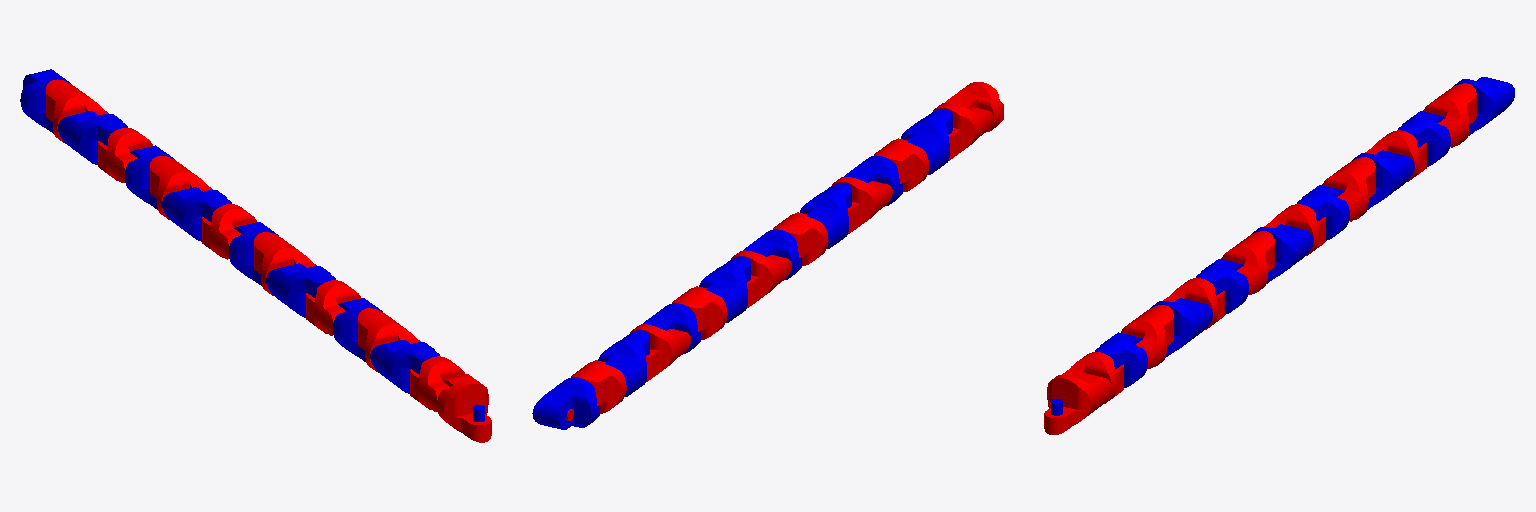
--- Facts derived from the render (not from the file) ---
Views: 3 orthographic renders of the robot side by side, from view 1: azimuth 30°, elevation 25°; view 2: azimuth 150°, elevation 25°; view 3: azimuth 330°, elevation 25°.
Model REU_snake with 52 links and 51 joints (16 revolute, 35 fixed), rooted at kdl_dummy_root, posed every joint at zero.
Links seen in each view (by area): view 1: reu_module_body_16, reu_module_body_6, reu_module_body_2, reu_module_body_10, reu_module_body_14, reu_module_body_13, reu_module_body_11, reu_module_body_15, reu_module_body_3, reu_module_body_7, reu_module_body_9, reu_module_body_5 (+5 smaller); view 2: reu_module_body_0, reu_module_body_14, reu_module_body_10, reu_module_body_6, reu_module_body_2, reu_module_body_3, reu_module_body_7, reu_module_body_11, reu_module_body_15, reu_module_body_13, reu_module_body_1, reu_module_body_9 (+5 smaller); view 3: reu_module_body_16, reu_module_body_5, reu_module_body_1, reu_module_body_9, reu_module_body_13, reu_module_body_12, reu_module_body_8, reu_module_body_4, reu_module_body_0, reu_module_body_6, reu_module_body_10, reu_module_body_14 (+5 smaller).
Boxes of the visible links, box(x1,y1,x2,y2) form: reu_module_body_16: box(437, 374, 491, 442); reu_module_body_6: box(162, 187, 231, 241); reu_module_body_2: box(58, 111, 127, 164); reu_module_body_10: box(266, 263, 335, 317); reu_module_body_14: box(370, 340, 439, 393); reu_module_body_13: box(358, 308, 420, 372); reu_module_body_11: box(306, 280, 360, 335); reu_module_body_15: box(410, 356, 465, 411); reu_module_body_3: box(98, 128, 152, 182); reu_module_body_7: box(202, 204, 256, 259); reu_module_body_9: box(254, 232, 316, 295); reu_module_body_5: box(150, 156, 212, 219); reu_module_body_0: box(532, 377, 599, 429); reu_module_body_14: box(901, 109, 952, 174); reu_module_body_10: box(800, 183, 851, 248); reu_module_body_6: box(699, 256, 750, 322); reu_module_body_2: box(598, 330, 649, 396); reu_module_body_3: box(630, 324, 690, 381); reu_module_body_7: box(731, 250, 791, 307); reu_module_body_11: box(832, 177, 892, 233); reu_module_body_15: box(933, 103, 993, 160); reu_module_body_13: box(874, 138, 928, 191); reu_module_body_1: box(571, 360, 626, 413); reu_module_body_9: box(773, 212, 828, 265); reu_module_body_16: box(1044, 372, 1111, 434); reu_module_body_5: box(1322, 157, 1375, 221); reu_module_body_1: box(1423, 83, 1476, 147); reu_module_body_9: box(1221, 231, 1274, 294); reu_module_body_13: box(1121, 305, 1173, 368); reu_module_body_12: box(1150, 298, 1212, 356); reu_module_body_8: box(1251, 224, 1313, 283); reu_module_body_4: box(1352, 150, 1414, 209); reu_module_body_0: box(1453, 77, 1514, 135); reu_module_body_6: box(1297, 185, 1349, 240); reu_module_body_10: box(1196, 259, 1248, 314); reu_module_body_14: box(1095, 332, 1147, 387).
Size in the robot's own frame: 0.0513 by 0.8891 by 0.0513 metres.
Meshes: 1 distinct files referenced, 17 mesh visuals loaded (1 binary STL).

robot.urdf — REU_snake:
<?xml version="1.0" ?>
<robot name="REU_snake" xmlns:xacro="http://ros.org/wiki/xacro">
  <!-- Written by Christian Luu ([email redacted]) 2021 -->
  <!-- URDF uses a cylindrical collision model -->
  <!-- Inertial Matrix of ReU module is from MeshLab -->
  <link name="kdl_dummy_root"/>
  <joint name="kdl_dummy_root_to_dummy_head" type="fixed">
    <parent link="kdl_dummy_root"/>
    <child link="reu_module_in_0"/>
    <origin rpy="0 -1.57079632679 0" xyz="0 0 0.026"/>
  </joint>
  <link name="reu_module_in_0">
    <visual>
      <origin rpy="0 0 0" xyz="0 0 0"/>
      <geometry>
        <cylinder length="0.02" radius="0.006"/>
      </geometry>
      <material name="red">
        <color rgba="1 0 0 1"/>
      </material>
    </visual>
    <inertial>
      <origin rpy="0 0 0" xyz="0 0 0"/>
      <mass value="1"/>
      <inertia ixx="1" ixy="0" ixz="0" iyy="1" iyz="0" izz="1"/>
    </inertial>
  </link>
  <link name="reu_module_body_0">
    <visual>
      <origin rpy="0 0 0" xyz="-0.02539 -0.02539 -0.9"/>
      <geometry>
        <mesh filename="package://model/ReU/meshes/ReU.STL" scale="0.0254 0.0254 0.0254"/>
      </geometry>
      <material name="blue">
        <color rgba="0 0 1 1"/>
      </material>
    </visual>
    <collision>
      <origin rpy="0 0 0" xyz="0 0 0"/>
      <geometry>
        <cylinder length="0.0208325" radius="0.02539"/>
      </geometry>
    </collision>
    <inertial>
      <origin rpy="0 0 0" xyz="0 0 0"/>
      <mass value="0.103"/>
      <inertia ixx="2.948" ixy="0.0452" ixz="0.4092" iyy="2.9305" iyz="-0.405" izz="1.819"/>
    </inertial>
  </link>
  <link name="reu_module_out_0">
    <visual>
      <origin rpy="0 0 0" xyz="0 0 0"/>
      <geometry>
        <cylinder length="0.015" radius="0.006"/>
      </geometry>
      <material name="blue">
        <color rgba="0 0 1 1"/>
      </material>
    </visual>
    <inertial>
      <origin rpy="0 0 0" xyz="0 0 0"/>
      <mass value="0"/>
      <inertia ixx="1" ixy="0" ixz="0" iyy="1" iyz="0" izz="1"/>
    </inertial>
  </link>
  <joint name="reu_joint_in2body_0" type="fixed">
    <parent link="reu_module_in_0"/>
    <child link="reu_module_body_0"/>
    <origin rpy="1.57076327 0 0" xyz="0 -0.0066 0"/>
  </joint>
  <joint name="reu_joint_body2out_0" type="fixed">
    <parent link="reu_module_body_0"/>
    <child link="reu_module_out_0"/>
    <origin rpy="0 1.57076327 0" xyz="0 0 0.044"/>
  </joint>
  <joint name="reu_joint_out2in_0" type="revolute">
    <parent link="reu_module_out_0"/>
    <child link="reu_module_in_1"/>
    <axis xyz="0 0 1"/>
    <origin rpy="0 3.14152654 -1.57076327" xyz="0 0 0"/>
    <dynamics damping="0.1" friction="0.2"/>
    <limit effort="7.0" lower="-1.57076327" upper="1.57076327" velocity="2.2"/>
  </joint>
  <transmission name="module_2_module_trans_0">
    <type>transmission_interface/SimpleTranmission</type>
    <actuator name="module_actuator_0">
      <mechanicalReduction>1</mechanicalReduction>
    </actuator>
    <joint name="reu_joint_out2in_0">
      <hardwareInterface>PositionJointInterface</hardwareInterface>
    </joint>
  </transmission>
  <link name="reu_module_in_1">
    <visual>
      <origin rpy="0 0 0" xyz="0 0 0"/>
      <geometry>
        <cylinder length="0.02" radius="0.006"/>
      </geometry>
      <material name="red">
        <color rgba="1 0 0 1"/>
      </material>
    </visual>
    <inertial>
      <origin rpy="0 0 0" xyz="0 0 0"/>
      <mass value="1"/>
      <inertia ixx="1" ixy="0" ixz="0" iyy="1" iyz="0" izz="1"/>
    </inertial>
  </link>
  <link name="reu_module_body_1">
    <visual>
      <origin rpy="0 0 0" xyz="-0.02539 -0.02539 -0.9"/>
      <geometry>
        <mesh filename="package://model/ReU/meshes/ReU.STL" scale="0.0254 0.0254 0.0254"/>
      </geometry>
      <material name="red">
        <color rgba="1 0 0 1"/>
      </material>
    </visual>
    <collision>
      <origin rpy="0 0 0" xyz="0 0 0"/>
      <geometry>
        <cylinder length="0.0208325" radius="0.02539"/>
      </geometry>
    </collision>
    <inertial>
      <origin rpy="0 0 0" xyz="0 0 0"/>
      <mass value="0.103"/>
      <inertia ixx="2.948" ixy="0.0452" ixz="0.4092" iyy="2.9305" iyz="-0.405" izz="1.819"/>
    </inertial>
  </link>
  <link name="reu_module_out_1">
    <visual>
      <origin rpy="0 0 0" xyz="0 0 0"/>
      <geometry>
        <cylinder length="0.015" radius="0.006"/>
      </geometry>
      <material name="blue">
        <color rgba="0 0 1 1"/>
      </material>
    </visual>
    <inertial>
      <origin rpy="0 0 0" xyz="0 0 0"/>
      <mass value="0"/>
      <inertia ixx="1" ixy="0" ixz="0" iyy="1" iyz="0" izz="1"/>
    </inertial>
  </link>
  <joint name="reu_joint_in2body_1" type="fixed">
    <parent link="reu_module_in_1"/>
    <child link="reu_module_body_1"/>
    <origin rpy="1.57076327 0 0" xyz="0 -0.0066 0"/>
  </joint>
  <joint name="reu_joint_body2out_1" type="fixed">
    <parent link="reu_module_body_1"/>
    <child link="reu_module_out_1"/>
    <origin rpy="0 1.57076327 0" xyz="0 0 0.044"/>
  </joint>
  <joint name="reu_joint_out2in_1" type="revolute">
    <parent link="reu_module_out_1"/>
    <child link="reu_module_in_2"/>
    <axis xyz="0 0 1"/>
    <origin rpy="0 3.14152654 -1.57076327" xyz="0 0 0"/>
    <dynamics damping="0.1" friction="0.2"/>
    <limit effort="7.0" lower="-1.57076327" upper="1.57076327" velocity="2.2"/>
  </joint>
  <transmission name="module_2_module_trans_1">
    <type>transmission_interface/SimpleTranmission</type>
    <actuator name="module_actuator_1">
      <mechanicalReduction>1</mechanicalReduction>
    </actuator>
    <joint name="reu_joint_out2in_1">
      <hardwareInterface>PositionJointInterface</hardwareInterface>
    </joint>
  </transmission>
  <link name="reu_module_in_2">
    <visual>
      <origin rpy="0 0 0" xyz="0 0 0"/>
      <geometry>
        <cylinder length="0.02" radius="0.006"/>
      </geometry>
      <material name="red">
        <color rgba="1 0 0 1"/>
      </material>
    </visual>
    <inertial>
      <origin rpy="0 0 0" xyz="0 0 0"/>
      <mass value="1"/>
      <inertia ixx="1" ixy="0" ixz="0" iyy="1" iyz="0" izz="1"/>
    </inertial>
  </link>
  <link name="reu_module_body_2">
    <visual>
      <origin rpy="0 0 0" xyz="-0.02539 -0.02539 -0.9"/>
      <geometry>
        <mesh filename="package://model/ReU/meshes/ReU.STL" scale="0.0254 0.0254 0.0254"/>
      </geometry>
      <material name="blue">
        <color rgba="0 0 1 1"/>
      </material>
    </visual>
    <collision>
      <origin rpy="0 0 0" xyz="0 0 0"/>
      <geometry>
        <cylinder length="0.0208325" radius="0.02539"/>
      </geometry>
    </collision>
    <inertial>
      <origin rpy="0 0 0" xyz="0 0 0"/>
      <mass value="0.103"/>
      <inertia ixx="2.948" ixy="0.0452" ixz="0.4092" iyy="2.9305" iyz="-0.405" izz="1.819"/>
    </inertial>
  </link>
  <link name="reu_module_out_2">
    <visual>
      <origin rpy="0 0 0" xyz="0 0 0"/>
      <geometry>
        <cylinder length="0.015" radius="0.006"/>
      </geometry>
      <material name="blue">
        <color rgba="0 0 1 1"/>
      </material>
    </visual>
    <inertial>
      <origin rpy="0 0 0" xyz="0 0 0"/>
      <mass value="0"/>
      <inertia ixx="1" ixy="0" ixz="0" iyy="1" iyz="0" izz="1"/>
    </inertial>
  </link>
  <joint name="reu_joint_in2body_2" type="fixed">
    <parent link="reu_module_in_2"/>
    <child link="reu_module_body_2"/>
    <origin rpy="1.57076327 0 0" xyz="0 -0.0066 0"/>
  </joint>
  <joint name="reu_joint_body2out_2" type="fixed">
    <parent link="reu_module_body_2"/>
    <child link="reu_module_out_2"/>
    <origin rpy="0 1.57076327 0" xyz="0 0 0.044"/>
  </joint>
  <joint name="reu_joint_out2in_2" type="revolute">
    <parent link="reu_module_out_2"/>
    <child link="reu_module_in_3"/>
    <axis xyz="0 0 1"/>
    <origin rpy="0 3.14152654 -1.57076327" xyz="0 0 0"/>
    <dynamics damping="0.1" friction="0.2"/>
    <limit effort="7.0" lower="-1.57076327" upper="1.57076327" velocity="2.2"/>
  </joint>
  <transmission name="module_2_module_trans_2">
    <type>transmission_interface/SimpleTranmission</type>
    <actuator name="module_actuator_2">
      <mechanicalReduction>1</mechanicalReduction>
    </actuator>
    <joint name="reu_joint_out2in_2">
      <hardwareInterface>PositionJointInterface</hardwareInterface>
    </joint>
  </transmission>
  <link name="reu_module_in_3">
    <visual>
      <origin rpy="0 0 0" xyz="0 0 0"/>
      <geometry>
        <cylinder length="0.02" radius="0.006"/>
      </geometry>
      <material name="red">
        <color rgba="1 0 0 1"/>
      </material>
    </visual>
    <inertial>
      <origin rpy="0 0 0" xyz="0 0 0"/>
      <mass value="1"/>
      <inertia ixx="1" ixy="0" ixz="0" iyy="1" iyz="0" izz="1"/>
    </inertial>
  </link>
  <link name="reu_module_body_3">
    <visual>
      <origin rpy="0 0 0" xyz="-0.02539 -0.02539 -0.9"/>
      <geometry>
        <mesh filename="package://model/ReU/meshes/ReU.STL" scale="0.0254 0.0254 0.0254"/>
      </geometry>
      <material name="red">
        <color rgba="1 0 0 1"/>
      </material>
    </visual>
    <collision>
      <origin rpy="0 0 0" xyz="0 0 0"/>
      <geometry>
        <cylinder length="0.0208325" radius="0.02539"/>
      </geometry>
    </collision>
    <inertial>
      <origin rpy="0 0 0" xyz="0 0 0"/>
      <mass value="0.103"/>
      <inertia ixx="2.948" ixy="0.0452" ixz="0.4092" iyy="2.9305" iyz="-0.405" izz="1.819"/>
    </inertial>
  </link>
  <link name="reu_module_out_3">
    <visual>
      <origin rpy="0 0 0" xyz="0 0 0"/>
      <geometry>
        <cylinder length="0.015" radius="0.006"/>
      </geometry>
      <material name="blue">
        <color rgba="0 0 1 1"/>
      </material>
    </visual>
    <inertial>
      <origin rpy="0 0 0" xyz="0 0 0"/>
      <mass value="0"/>
      <inertia ixx="1" ixy="0" ixz="0" iyy="1" iyz="0" izz="1"/>
    </inertial>
  </link>
  <joint name="reu_joint_in2body_3" type="fixed">
    <parent link="reu_module_in_3"/>
    <child link="reu_module_body_3"/>
    <origin rpy="1.57076327 0 0" xyz="0 -0.0066 0"/>
  </joint>
  <joint name="reu_joint_body2out_3" type="fixed">
    <parent link="reu_module_body_3"/>
    <child link="reu_module_out_3"/>
    <origin rpy="0 1.57076327 0" xyz="0 0 0.044"/>
  </joint>
  <joint name="reu_joint_out2in_3" type="revolute">
    <parent link="reu_module_out_3"/>
    <child link="reu_module_in_4"/>
    <axis xyz="0 0 1"/>
    <origin rpy="0 3.14152654 -1.57076327" xyz="0 0 0"/>
    <dynamics damping="0.1" friction="0.2"/>
    <limit effort="7.0" lower="-1.57076327" upper="1.57076327" velocity="2.2"/>
  </joint>
  <transmission name="module_2_module_trans_3">
    <type>transmission_interface/SimpleTranmission</type>
    <actuator name="module_actuator_3">
      <mechanicalReduction>1</mechanicalReduction>
    </actuator>
    <joint name="reu_joint_out2in_3">
      <hardwareInterface>PositionJointInterface</hardwareInterface>
    </joint>
  </transmission>
  <link name="reu_module_in_4">
    <visual>
      <origin rpy="0 0 0" xyz="0 0 0"/>
      <geometry>
        <cylinder length="0.02" radius="0.006"/>
      </geometry>
      <material name="red">
        <color rgba="1 0 0 1"/>
      </material>
    </visual>
    <inertial>
      <origin rpy="0 0 0" xyz="0 0 0"/>
      <mass value="1"/>
      <inertia ixx="1" ixy="0" ixz="0" iyy="1" iyz="0" izz="1"/>
    </inertial>
  </link>
  <link name="reu_module_body_4">
    <visual>
      <origin rpy="0 0 0" xyz="-0.02539 -0.02539 -0.9"/>
      <geometry>
        <mesh filename="package://model/ReU/meshes/ReU.STL" scale="0.0254 0.0254 0.0254"/>
      </geometry>
      <material name="blue">
        <color rgba="0 0 1 1"/>
      </material>
    </visual>
    <collision>
      <origin rpy="0 0 0" xyz="0 0 0"/>
      <geometry>
        <cylinder length="0.0208325" radius="0.02539"/>
      </geometry>
    </collision>
    <inertial>
      <origin rpy="0 0 0" xyz="0 0 0"/>
      <mass value="0.103"/>
      <inertia ixx="2.948" ixy="0.0452" ixz="0.4092" iyy="2.9305" iyz="-0.405" izz="1.819"/>
    </inertial>
  </link>
  <link name="reu_module_out_4">
    <visual>
      <origin rpy="0 0 0" xyz="0 0 0"/>
      <geometry>
        <cylinder length="0.015" radius="0.006"/>
      </geometry>
      <material name="blue">
        <color rgba="0 0 1 1"/>
      </material>
    </visual>
    <inertial>
      <origin rpy="0 0 0" xyz="0 0 0"/>
      <mass value="0"/>
      <inertia ixx="1" ixy="0" ixz="0" iyy="1" iyz="0" izz="1"/>
    </inertial>
  </link>
  <joint name="reu_joint_in2body_4" type="fixed">
    <parent link="reu_module_in_4"/>
    <child link="reu_module_body_4"/>
    <origin rpy="1.57076327 0 0" xyz="0 -0.0066 0"/>
  </joint>
  <joint name="reu_joint_body2out_4" type="fixed">
    <parent link="reu_module_body_4"/>
    <child link="reu_module_out_4"/>
    <origin rpy="0 1.57076327 0" xyz="0 0 0.044"/>
  </joint>
  <joint name="reu_joint_out2in_4" type="revolute">
    <parent link="reu_module_out_4"/>
    <child link="reu_module_in_5"/>
    <axis xyz="0 0 1"/>
    <origin rpy="0 3.14152654 -1.57076327" xyz="0 0 0"/>
    <dynamics damping="0.1" friction="0.2"/>
    <limit effort="7.0" lower="-1.57076327" upper="1.57076327" velocity="2.2"/>
  </joint>
  <transmission name="module_2_module_trans_4">
    <type>transmission_interface/SimpleTranmission</type>
    <actuator name="module_actuator_4">
      <mechanicalReduction>1</mechanicalReduction>
    </actuator>
    <joint name="reu_joint_out2in_4">
      <hardwareInterface>PositionJointInterface</hardwareInterface>
    </joint>
  </transmission>
  <link name="reu_module_in_5">
    <visual>
      <origin rpy="0 0 0" xyz="0 0 0"/>
      <geometry>
        <cylinder length="0.02" radius="0.006"/>
      </geometry>
      <material name="red">
        <color rgba="1 0 0 1"/>
      </material>
    </visual>
    <inertial>
      <origin rpy="0 0 0" xyz="0 0 0"/>
      <mass value="1"/>
      <inertia ixx="1" ixy="0" ixz="0" iyy="1" iyz="0" izz="1"/>
    </inertial>
  </link>
  <link name="reu_module_body_5">
    <visual>
      <origin rpy="0 0 0" xyz="-0.02539 -0.02539 -0.9"/>
      <geometry>
        <mesh filename="package://model/ReU/meshes/ReU.STL" scale="0.0254 0.0254 0.0254"/>
      </geometry>
      <material name="red">
        <color rgba="1 0 0 1"/>
      </material>
    </visual>
    <collision>
      <origin rpy="0 0 0" xyz="0 0 0"/>
      <geometry>
        <cylinder length="0.0208325" radius="0.02539"/>
      </geometry>
    </collision>
    <inertial>
      <origin rpy="0 0 0" xyz="0 0 0"/>
      <mass value="0.103"/>
      <inertia ixx="2.948" ixy="0.0452" ixz="0.4092" iyy="2.9305" iyz="-0.405" izz="1.819"/>
    </inertial>
  </link>
  <link name="reu_module_out_5">
    <visual>
      <origin rpy="0 0 0" xyz="0 0 0"/>
      <geometry>
        <cylinder length="0.015" radius="0.006"/>
      </geometry>
      <material name="blue">
        <color rgba="0 0 1 1"/>
      </material>
    </visual>
    <inertial>
      <origin rpy="0 0 0" xyz="0 0 0"/>
      <mass value="0"/>
      <inertia ixx="1" ixy="0" ixz="0" iyy="1" iyz="0" izz="1"/>
    </inertial>
  </link>
  <joint name="reu_joint_in2body_5" type="fixed">
    <parent link="reu_module_in_5"/>
    <child link="reu_module_body_5"/>
    <origin rpy="1.57076327 0 0" xyz="0 -0.0066 0"/>
  </joint>
  <joint name="reu_joint_body2out_5" type="fixed">
    <parent link="reu_module_body_5"/>
    <child link="reu_module_out_5"/>
    <origin rpy="0 1.57076327 0" xyz="0 0 0.044"/>
  </joint>
  <joint name="reu_joint_out2in_5" type="revolute">
    <parent link="reu_module_out_5"/>
    <child link="reu_module_in_6"/>
    <axis xyz="0 0 1"/>
    <origin rpy="0 3.14152654 -1.57076327" xyz="0 0 0"/>
    <dynamics damping="0.1" friction="0.2"/>
    <limit effort="7.0" lower="-1.57076327" upper="1.57076327" velocity="2.2"/>
  </joint>
  <transmission name="module_2_module_trans_5">
    <type>transmission_interface/SimpleTranmission</type>
    <actuator name="module_actuator_5">
      <mechanicalReduction>1</mechanicalReduction>
    </actuator>
    <joint name="reu_joint_out2in_5">
      <hardwareInterface>PositionJointInterface</hardwareInterface>
    </joint>
  </transmission>
  <link name="reu_module_in_6">
    <visual>
      <origin rpy="0 0 0" xyz="0 0 0"/>
      <geometry>
        <cylinder length="0.02" radius="0.006"/>
      </geometry>
      <material name="red">
        <color rgba="1 0 0 1"/>
      </material>
    </visual>
    <inertial>
      <origin rpy="0 0 0" xyz="0 0 0"/>
      <mass value="1"/>
      <inertia ixx="1" ixy="0" ixz="0" iyy="1" iyz="0" izz="1"/>
    </inertial>
  </link>
  <link name="reu_module_body_6">
    <visual>
      <origin rpy="0 0 0" xyz="-0.02539 -0.02539 -0.9"/>
      <geometry>
        <mesh filename="package://model/ReU/meshes/ReU.STL" scale="0.0254 0.0254 0.0254"/>
      </geometry>
      <material name="blue">
        <color rgba="0 0 1 1"/>
      </material>
    </visual>
    <collision>
      <origin rpy="0 0 0" xyz="0 0 0"/>
      <geometry>
        <cylinder length="0.0208325" radius="0.02539"/>
      </geometry>
    </collision>
    <inertial>
      <origin rpy="0 0 0" xyz="0 0 0"/>
      <mass value="0.103"/>
      <inertia ixx="2.948" ixy="0.0452" ixz="0.4092" iyy="2.9305" iyz="-0.405" izz="1.819"/>
    </inertial>
  </link>
  <link name="reu_module_out_6">
    <visual>
      <origin rpy="0 0 0" xyz="0 0 0"/>
      <geometry>
        <cylinder length="0.015" radius="0.006"/>
      </geometry>
      <material name="blue">
        <color rgba="0 0 1 1"/>
      </material>
    </visual>
    <inertial>
      <origin rpy="0 0 0" xyz="0 0 0"/>
      <mass value="0"/>
      <inertia ixx="1" ixy="0" ixz="0" iyy="1" iyz="0" izz="1"/>
    </inertial>
  </link>
  <joint name="reu_joint_in2body_6" type="fixed">
    <parent link="reu_module_in_6"/>
    <child link="reu_module_body_6"/>
    <origin rpy="1.57076327 0 0" xyz="0 -0.0066 0"/>
  </joint>
  <joint name="reu_joint_body2out_6" type="fixed">
    <parent link="reu_module_body_6"/>
    <child link="reu_module_out_6"/>
    <origin rpy="0 1.57076327 0" xyz="0 0 0.044"/>
  </joint>
  <joint name="reu_joint_out2in_6" type="revolute">
    <parent link="reu_module_out_6"/>
    <child link="reu_module_in_7"/>
    <axis xyz="0 0 1"/>
    <origin rpy="0 3.14152654 -1.57076327" xyz="0 0 0"/>
    <dynamics damping="0.1" friction="0.2"/>
    <limit effort="7.0" lower="-1.57076327" upper="1.57076327" velocity="2.2"/>
  </joint>
  <transmission name="module_2_module_trans_6">
    <type>transmission_interface/SimpleTranmission</type>
    <actuator name="module_actuator_6">
      <mechanicalReduction>1</mechanicalReduction>
    </actuator>
    <joint name="reu_joint_out2in_6">
      <hardwareInterface>PositionJointInterface</hardwareInterface>
    </joint>
  </transmission>
  <link name="reu_module_in_7">
    <visual>
      <origin rpy="0 0 0" xyz="0 0 0"/>
      <geometry>
        <cylinder length="0.02" radius="0.006"/>
      </geometry>
      <material name="red">
        <color rgba="1 0 0 1"/>
      </material>
    </visual>
    <inertial>
      <origin rpy="0 0 0" xyz="0 0 0"/>
      <mass value="1"/>
      <inertia ixx="1" ixy="0" ixz="0" iyy="1" iyz="0" izz="1"/>
    </inertial>
  </link>
  <link name="reu_module_body_7">
    <visual>
      <origin rpy="0 0 0" xyz="-0.02539 -0.02539 -0.9"/>
      <geometry>
        <mesh filename="package://model/ReU/meshes/ReU.STL" scale="0.0254 0.0254 0.0254"/>
      </geometry>
      <material name="red">
        <color rgba="1 0 0 1"/>
      </material>
    </visual>
    <collision>
      <origin rpy="0 0 0" xyz="0 0 0"/>
      <geometry>
        <cylinder length="0.0208325" radius="0.02539"/>
      </geometry>
    </collision>
    <inertial>
      <origin rpy="0 0 0" xyz="0 0 0"/>
      <mass value="0.103"/>
      <inertia ixx="2.948" ixy="0.0452" ixz="0.4092" iyy="2.9305" iyz="-0.405" izz="1.819"/>
    </inertial>
  </link>
  <link name="reu_module_out_7">
    <visual>
      <origin rpy="0 0 0" xyz="0 0 0"/>
      <geometry>
        <cylinder length="0.015" radius="0.006"/>
      </geometry>
      <material name="blue">
        <color rgba="0 0 1 1"/>
      </material>
    </visual>
    <inertial>
      <origin rpy="0 0 0" xyz="0 0 0"/>
      <mass value="0"/>
      <inertia ixx="1" ixy="0" ixz="0" iyy="1" iyz="0" izz="1"/>
    </inertial>
  </link>
  <joint name="reu_joint_in2body_7" type="fixed">
    <parent link="reu_module_in_7"/>
    <child link="reu_module_body_7"/>
    <origin rpy="1.57076327 0 0" xyz="0 -0.0066 0"/>
  </joint>
  <joint name="reu_joint_body2out_7" type="fixed">
    <parent link="reu_module_body_7"/>
    <child link="reu_module_out_7"/>
    <origin rpy="0 1.57076327 0" xyz="0 0 0.044"/>
  </joint>
  <joint name="reu_joint_out2in_7" type="revolute">
    <parent link="reu_module_out_7"/>
    <child link="reu_module_in_8"/>
    <axis xyz="0 0 1"/>
    <origin rpy="0 3.14152654 -1.57076327" xyz="0 0 0"/>
    <dynamics damping="0.1" friction="0.2"/>
    <limit effort="7.0" lower="-1.57076327" upper="1.57076327" velocity="2.2"/>
  </joint>
  <transmission name="module_2_module_trans_7">
    <type>transmission_interface/SimpleTranmission</type>
    <actuator name="module_actuator_7">
      <mechanicalReduction>1</mechanicalReduction>
    </actuator>
    <joint name="reu_joint_out2in_7">
      <hardwareInterface>PositionJointInterface</hardwareInterface>
    </joint>
  </transmission>
  <link name="reu_module_in_8">
    <visual>
      <origin rpy="0 0 0" xyz="0 0 0"/>
      <geometry>
        <cylinder length="0.02" radius="0.006"/>
      </geometry>
      <material name="red">
        <color rgba="1 0 0 1"/>
      </material>
    </visual>
    <inertial>
      <origin rpy="0 0 0" xyz="0 0 0"/>
      <mass value="1"/>
      <inertia ixx="1" ixy="0" ixz="0" iyy="1" iyz="0" izz="1"/>
    </inertial>
  </link>
  <link name="reu_module_body_8">
    <visual>
      <origin rpy="0 0 0" xyz="-0.02539 -0.02539 -0.9"/>
      <geometry>
        <mesh filename="package://model/ReU/meshes/ReU.STL" scale="0.0254 0.0254 0.0254"/>
      </geometry>
      <material name="blue">
        <color rgba="0 0 1 1"/>
      </material>
    </visual>
    <collision>
      <origin rpy="0 0 0" xyz="0 0 0"/>
      <geometry>
        <cylinder length="0.0208325" radius="0.02539"/>
      </geometry>
    </collision>
    <inertial>
      <origin rpy="0 0 0" xyz="0 0 0"/>
      <mass value="0.103"/>
      <inertia ixx="2.948" ixy="0.0452" ixz="0.4092" iyy="2.9305" iyz="-0.405" izz="1.819"/>
    </inertial>
  </link>
  <link name="reu_module_out_8">
    <visual>
      <origin rpy="0 0 0" xyz="0 0 0"/>
      <geometry>
        <cylinder length="0.015" radius="0.006"/>
      </geometry>
      <material name="blue">
        <color rgba="0 0 1 1"/>
      </material>
    </visual>
    <inertial>
      <origin rpy="0 0 0" xyz="0 0 0"/>
      <mass value="0"/>
      <inertia ixx="1" ixy="0" ixz="0" iyy="1" iyz="0" izz="1"/>
    </inertial>
  </link>
  <joint name="reu_joint_in2body_8" type="fixed">
    <parent link="reu_module_in_8"/>
    <child link="reu_module_body_8"/>
    <origin rpy="1.57076327 0 0" xyz="0 -0.0066 0"/>
  </joint>
  <joint name="reu_joint_body2out_8" type="fixed">
    <parent link="reu_module_body_8"/>
    <child link="reu_module_out_8"/>
    <origin rpy="0 1.57076327 0" xyz="0 0 0.044"/>
  </joint>
  <joint name="reu_joint_out2in_8" type="revolute">
    <parent link="reu_module_out_8"/>
    <child link="reu_module_in_9"/>
    <axis xyz="0 0 1"/>
    <origin rpy="0 3.14152654 -1.57076327" xyz="0 0 0"/>
    <dynamics damping="0.1" friction="0.2"/>
    <limit effort="7.0" lower="-1.57076327" upper="1.57076327" velocity="2.2"/>
  </joint>
  <transmission name="module_2_module_trans_8">
    <type>transmission_interface/SimpleTranmission</type>
    <actuator name="module_actuator_8">
      <mechanicalReduction>1</mechanicalReduction>
    </actuator>
    <joint name="reu_joint_out2in_8">
      <hardwareInterface>PositionJointInterface</hardwareInterface>
    </joint>
  </transmission>
  <link name="reu_module_in_9">
    <visual>
      <origin rpy="0 0 0" xyz="0 0 0"/>
      <geometry>
        <cylinder length="0.02" radius="0.006"/>
      </geometry>
      <material name="red">
        <color rgba="1 0 0 1"/>
      </material>
    </visual>
    <inertial>
      <origin rpy="0 0 0" xyz="0 0 0"/>
      <mass value="1"/>
      <inertia ixx="1" ixy="0" ixz="0" iyy="1" iyz="0" izz="1"/>
    </inertial>
  </link>
  <link name="reu_module_body_9">
    <visual>
      <origin rpy="0 0 0" xyz="-0.02539 -0.02539 -0.9"/>
      <geometry>
        <mesh filename="package://model/ReU/meshes/ReU.STL" scale="0.0254 0.0254 0.0254"/>
      </geometry>
      <material name="red">
        <color rgba="1 0 0 1"/>
      </material>
    </visual>
    <collision>
      <origin rpy="0 0 0" xyz="0 0 0"/>
      <geometry>
        <cylinder length="0.0208325" radius="0.02539"/>
      </geometry>
    </collision>
    <inertial>
      <origin rpy="0 0 0" xyz="0 0 0"/>
      <mass value="0.103"/>
      <inertia ixx="2.948" ixy="0.0452" ixz="0.4092" iyy="2.9305" iyz="-0.405" izz="1.819"/>
    </inertial>
  </link>
  <link name="reu_module_out_9">
    <visual>
      <origin rpy="0 0 0" xyz="0 0 0"/>
      <geometry>
        <cylinder length="0.015" radius="0.006"/>
      </geometry>
      <material name="blue">
        <color rgba="0 0 1 1"/>
      </material>
    </visual>
    <inertial>
      <origin rpy="0 0 0" xyz="0 0 0"/>
      <mass value="0"/>
      <inertia ixx="1" ixy="0" ixz="0" iyy="1" iyz="0" izz="1"/>
    </inertial>
  </link>
  <joint name="reu_joint_in2body_9" type="fixed">
    <parent link="reu_module_in_9"/>
    <child link="reu_module_body_9"/>
    <origin rpy="1.57076327 0 0" xyz="0 -0.0066 0"/>
  </joint>
  <joint name="reu_joint_body2out_9" type="fixed">
    <parent link="reu_module_body_9"/>
    <child link="reu_module_out_9"/>
    <origin rpy="0 1.57076327 0" xyz="0 0 0.044"/>
  </joint>
  <joint name="reu_joint_out2in_9" type="revolute">
    <parent link="reu_module_out_9"/>
    <child link="reu_module_in_10"/>
    <axis xyz="0 0 1"/>
    <origin rpy="0 3.14152654 -1.57076327" xyz="0 0 0"/>
    <dynamics damping="0.1" friction="0.2"/>
    <limit effort="7.0" lower="-1.57076327" upper="1.57076327" velocity="2.2"/>
  </joint>
  <transmission name="module_2_module_trans_9">
    <type>transmission_interface/SimpleTranmission</type>
    <actuator name="module_actuator_9">
      <mechanicalReduction>1</mechanicalReduction>
    </actuator>
    <joint name="reu_joint_out2in_9">
      <hardwareInterface>PositionJointInterface</hardwareInterface>
    </joint>
  </transmission>
  <link name="reu_module_in_10">
    <visual>
      <origin rpy="0 0 0" xyz="0 0 0"/>
      <geometry>
        <cylinder length="0.02" radius="0.006"/>
      </geometry>
      <material name="red">
        <color rgba="1 0 0 1"/>
      </material>
    </visual>
    <inertial>
      <origin rpy="0 0 0" xyz="0 0 0"/>
      <mass value="1"/>
      <inertia ixx="1" ixy="0" ixz="0" iyy="1" iyz="0" izz="1"/>
    </inertial>
  </link>
  <link name="reu_module_body_10">
    <visual>
      <origin rpy="0 0 0" xyz="-0.02539 -0.02539 -0.9"/>
      <geometry>
        <mesh filename="package://model/ReU/meshes/ReU.STL" scale="0.0254 0.0254 0.0254"/>
      </geometry>
      <material name="blue">
        <color rgba="0 0 1 1"/>
      </material>
    </visual>
    <collision>
      <origin rpy="0 0 0" xyz="0 0 0"/>
      <geometry>
        <cylinder length="0.0208325" radius="0.02539"/>
      </geometry>
    </collision>
    <inertial>
      <origin rpy="0 0 0" xyz="0 0 0"/>
      <mass value="0.103"/>
      <inertia ixx="2.948" ixy="0.0452" ixz="0.4092" iyy="2.9305" iyz="-0.405" izz="1.819"/>
    </inertial>
  </link>
  <link name="reu_module_out_10">
    <visual>
      <origin rpy="0 0 0" xyz="0 0 0"/>
      <geometry>
        <cylinder length="0.015" radius="0.006"/>
      </geometry>
      <material name="blue">
        <color rgba="0 0 1 1"/>
      </material>
    </visual>
    <inertial>
      <origin rpy="0 0 0" xyz="0 0 0"/>
      <mass value="0"/>
      <inertia ixx="1" ixy="0" ixz="0" iyy="1" iyz="0" izz="1"/>
    </inertial>
  </link>
  <joint name="reu_joint_in2body_10" type="fixed">
    <parent link="reu_module_in_10"/>
    <child link="reu_module_body_10"/>
    <origin rpy="1.57076327 0 0" xyz="0 -0.0066 0"/>
  </joint>
  <joint name="reu_joint_body2out_10" type="fixed">
    <parent link="reu_module_body_10"/>
    <child link="reu_module_out_10"/>
    <origin rpy="0 1.57076327 0" xyz="0 0 0.044"/>
  </joint>
  <joint name="reu_joint_out2in_10" type="revolute">
    <parent link="reu_module_out_10"/>
    <child link="reu_module_in_11"/>
    <axis xyz="0 0 1"/>
    <origin rpy="0 3.14152654 -1.57076327" xyz="0 0 0"/>
    <dynamics damping="0.1" friction="0.2"/>
    <limit effort="7.0" lower="-1.57076327" upper="1.57076327" velocity="2.2"/>
  </joint>
  <transmission name="module_2_module_trans_10">
    <type>transmission_interface/SimpleTranmission</type>
    <actuator name="module_actuator_10">
      <mechanicalReduction>1</mechanicalReduction>
    </actuator>
    <joint name="reu_joint_out2in_10">
      <hardwareInterface>PositionJointInterface</hardwareInterface>
    </joint>
  </transmission>
  <link name="reu_module_in_11">
    <visual>
      <origin rpy="0 0 0" xyz="0 0 0"/>
      <geometry>
        <cylinder length="0.02" radius="0.006"/>
      </geometry>
      <material name="red">
        <color rgba="1 0 0 1"/>
      </material>
    </visual>
    <inertial>
      <origin rpy="0 0 0" xyz="0 0 0"/>
      <mass value="1"/>
      <inertia ixx="1" ixy="0" ixz="0" iyy="1" iyz="0" izz="1"/>
    </inertial>
  </link>
  <link name="reu_module_body_11">
    <visual>
      <origin rpy="0 0 0" xyz="-0.02539 -0.02539 -0.9"/>
      <geometry>
        <mesh filename="package://model/ReU/meshes/ReU.STL" scale="0.0254 0.0254 0.0254"/>
      </geometry>
      <material name="red">
        <color rgba="1 0 0 1"/>
      </material>
    </visual>
    <collision>
      <origin rpy="0 0 0" xyz="0 0 0"/>
      <geometry>
        <cylinder length="0.0208325" radius="0.02539"/>
      </geometry>
    </collision>
    <inertial>
      <origin rpy="0 0 0" xyz="0 0 0"/>
      <mass value="0.103"/>
      <inertia ixx="2.948" ixy="0.0452" ixz="0.4092" iyy="2.9305" iyz="-0.405" izz="1.819"/>
    </inertial>
  </link>
  <link name="reu_module_out_11">
    <visual>
      <origin rpy="0 0 0" xyz="0 0 0"/>
      <geometry>
        <cylinder length="0.015" radius="0.006"/>
      </geometry>
      <material name="blue">
        <color rgba="0 0 1 1"/>
      </material>
    </visual>
    <inertial>
      <origin rpy="0 0 0" xyz="0 0 0"/>
      <mass value="0"/>
      <inertia ixx="1" ixy="0" ixz="0" iyy="1" iyz="0" izz="1"/>
    </inertial>
  </link>
  <joint name="reu_joint_in2body_11" type="fixed">
    <parent link="reu_module_in_11"/>
    <child link="reu_module_body_11"/>
    <origin rpy="1.57076327 0 0" xyz="0 -0.0066 0"/>
  </joint>
  <joint name="reu_joint_body2out_11" type="fixed">
    <parent link="reu_module_body_11"/>
    <child link="reu_module_out_11"/>
    <origin rpy="0 1.57076327 0" xyz="0 0 0.044"/>
  </joint>
  <joint name="reu_joint_out2in_11" type="revolute">
    <parent link="reu_module_out_11"/>
    <child link="reu_module_in_12"/>
    <axis xyz="0 0 1"/>
    <origin rpy="0 3.14152654 -1.57076327" xyz="0 0 0"/>
    <dynamics damping="0.1" friction="0.2"/>
    <limit effort="7.0" lower="-1.57076327" upper="1.57076327" velocity="2.2"/>
  </joint>
  <transmission name="module_2_module_trans_11">
    <type>transmission_interface/SimpleTranmission</type>
    <actuator name="module_actuator_11">
      <mechanicalReduction>1</mechanicalReduction>
    </actuator>
    <joint name="reu_joint_out2in_11">
      <hardwareInterface>PositionJointInterface</hardwareInterface>
    </joint>
  </transmission>
  <link name="reu_module_in_12">
    <visual>
      <origin rpy="0 0 0" xyz="0 0 0"/>
      <geometry>
        <cylinder length="0.02" radius="0.006"/>
      </geometry>
      <material name="red">
        <color rgba="1 0 0 1"/>
      </material>
    </visual>
    <inertial>
      <origin rpy="0 0 0" xyz="0 0 0"/>
      <mass value="1"/>
      <inertia ixx="1" ixy="0" ixz="0" iyy="1" iyz="0" izz="1"/>
    </inertial>
  </link>
  <link name="reu_module_body_12">
    <visual>
      <origin rpy="0 0 0" xyz="-0.02539 -0.02539 -0.9"/>
      <geometry>
        <mesh filename="package://model/ReU/meshes/ReU.STL" scale="0.0254 0.0254 0.0254"/>
      </geometry>
      <material name="blue">
        <color rgba="0 0 1 1"/>
      </material>
    </visual>
    <collision>
      <origin rpy="0 0 0" xyz="0 0 0"/>
      <geometry>
        <cylinder length="0.0208325" radius="0.02539"/>
      </geometry>
    </collision>
    <inertial>
      <origin rpy="0 0 0" xyz="0 0 0"/>
      <mass value="0.103"/>
      <inertia ixx="2.948" ixy="0.0452" ixz="0.4092" iyy="2.9305" iyz="-0.405" izz="1.819"/>
    </inertial>
  </link>
  <link name="reu_module_out_12">
    <visual>
      <origin rpy="0 0 0" xyz="0 0 0"/>
      <geometry>
        <cylinder length="0.015" radius="0.006"/>
      </geometry>
      <material name="blue">
        <color rgba="0 0 1 1"/>
      </material>
    </visual>
    <inertial>
      <origin rpy="0 0 0" xyz="0 0 0"/>
      <mass value="0"/>
      <inertia ixx="1" ixy="0" ixz="0" iyy="1" iyz="0" izz="1"/>
    </inertial>
  </link>
  <joint name="reu_joint_in2body_12" type="fixed">
    <parent link="reu_module_in_12"/>
    <child link="reu_module_body_12"/>
    <origin rpy="1.57076327 0 0" xyz="0 -0.0066 0"/>
  </joint>
  <joint name="reu_joint_body2out_12" type="fixed">
    <parent link="reu_module_body_12"/>
    <child link="reu_module_out_12"/>
    <origin rpy="0 1.57076327 0" xyz="0 0 0.044"/>
  </joint>
  <joint name="reu_joint_out2in_12" type="revolute">
    <parent link="reu_module_out_12"/>
    <child link="reu_module_in_13"/>
    <axis xyz="0 0 1"/>
    <origin rpy="0 3.14152654 -1.57076327" xyz="0 0 0"/>
    <dynamics damping="0.1" friction="0.2"/>
    <limit effort="7.0" lower="-1.57076327" upper="1.57076327" velocity="2.2"/>
  </joint>
  <transmission name="module_2_module_trans_12">
    <type>transmission_interface/SimpleTranmission</type>
    <actuator name="module_actuator_12">
      <mechanicalReduction>1</mechanicalReduction>
    </actuator>
    <joint name="reu_joint_out2in_12">
      <hardwareInterface>PositionJointInterface</hardwareInterface>
    </joint>
  </transmission>
  <link name="reu_module_in_13">
    <visual>
      <origin rpy="0 0 0" xyz="0 0 0"/>
      <geometry>
        <cylinder length="0.02" radius="0.006"/>
      </geometry>
      <material name="red">
        <color rgba="1 0 0 1"/>
      </material>
    </visual>
    <inertial>
      <origin rpy="0 0 0" xyz="0 0 0"/>
      <mass value="1"/>
      <inertia ixx="1" ixy="0" ixz="0" iyy="1" iyz="0" izz="1"/>
    </inertial>
  </link>
  <link name="reu_module_body_13">
    <visual>
      <origin rpy="0 0 0" xyz="-0.02539 -0.02539 -0.9"/>
      <geometry>
        <mesh filename="package://model/ReU/meshes/ReU.STL" scale="0.0254 0.0254 0.0254"/>
      </geometry>
      <material name="red">
        <color rgba="1 0 0 1"/>
      </material>
    </visual>
    <collision>
      <origin rpy="0 0 0" xyz="0 0 0"/>
      <geometry>
        <cylinder length="0.0208325" radius="0.02539"/>
      </geometry>
    </collision>
    <inertial>
      <origin rpy="0 0 0" xyz="0 0 0"/>
      <mass value="0.103"/>
      <inertia ixx="2.948" ixy="0.0452" ixz="0.4092" iyy="2.9305" iyz="-0.405" izz="1.819"/>
    </inertial>
  </link>
  <link name="reu_module_out_13">
    <visual>
      <origin rpy="0 0 0" xyz="0 0 0"/>
      <geometry>
        <cylinder length="0.015" radius="0.006"/>
      </geometry>
      <material name="blue">
        <color rgba="0 0 1 1"/>
      </material>
    </visual>
    <inertial>
      <origin rpy="0 0 0" xyz="0 0 0"/>
      <mass value="0"/>
      <inertia ixx="1" ixy="0" ixz="0" iyy="1" iyz="0" izz="1"/>
    </inertial>
  </link>
  <joint name="reu_joint_in2body_13" type="fixed">
    <parent link="reu_module_in_13"/>
    <child link="reu_module_body_13"/>
    <origin rpy="1.57076327 0 0" xyz="0 -0.0066 0"/>
  </joint>
  <joint name="reu_joint_body2out_13" type="fixed">
    <parent link="reu_module_body_13"/>
    <child link="reu_module_out_13"/>
    <origin rpy="0 1.57076327 0" xyz="0 0 0.044"/>
  </joint>
  <joint name="reu_joint_out2in_13" type="revolute">
    <parent link="reu_module_out_13"/>
    <child link="reu_module_in_14"/>
    <axis xyz="0 0 1"/>
    <origin rpy="0 3.14152654 -1.57076327" xyz="0 0 0"/>
    <dynamics damping="0.1" friction="0.2"/>
    <limit effort="7.0" lower="-1.57076327" upper="1.57076327" velocity="2.2"/>
  </joint>
  <transmission name="module_2_module_trans_13">
    <type>transmission_interface/SimpleTranmission</type>
    <actuator name="module_actuator_13">
      <mechanicalReduction>1</mechanicalReduction>
    </actuator>
    <joint name="reu_joint_out2in_13">
      <hardwareInterface>PositionJointInterface</hardwareInterface>
    </joint>
  </transmission>
  <link name="reu_module_in_14">
    <visual>
      <origin rpy="0 0 0" xyz="0 0 0"/>
      <geometry>
        <cylinder length="0.02" radius="0.006"/>
      </geometry>
      <material name="red">
        <color rgba="1 0 0 1"/>
      </material>
    </visual>
    <inertial>
      <origin rpy="0 0 0" xyz="0 0 0"/>
      <mass value="1"/>
      <inertia ixx="1" ixy="0" ixz="0" iyy="1" iyz="0" izz="1"/>
    </inertial>
  </link>
  <link name="reu_module_body_14">
    <visual>
      <origin rpy="0 0 0" xyz="-0.02539 -0.02539 -0.9"/>
      <geometry>
        <mesh filename="package://model/ReU/meshes/ReU.STL" scale="0.0254 0.0254 0.0254"/>
      </geometry>
      <material name="blue">
        <color rgba="0 0 1 1"/>
      </material>
    </visual>
    <collision>
      <origin rpy="0 0 0" xyz="0 0 0"/>
      <geometry>
        <cylinder length="0.0208325" radius="0.02539"/>
      </geometry>
    </collision>
    <inertial>
      <origin rpy="0 0 0" xyz="0 0 0"/>
      <mass value="0.103"/>
      <inertia ixx="2.948" ixy="0.0452" ixz="0.4092" iyy="2.9305" iyz="-0.405" izz="1.819"/>
    </inertial>
  </link>
  <link name="reu_module_out_14">
    <visual>
      <origin rpy="0 0 0" xyz="0 0 0"/>
      <geometry>
        <cylinder length="0.015" radius="0.006"/>
      </geometry>
      <material name="blue">
        <color rgba="0 0 1 1"/>
      </material>
    </visual>
    <inertial>
      <origin rpy="0 0 0" xyz="0 0 0"/>
      <mass value="0"/>
      <inertia ixx="1" ixy="0" ixz="0" iyy="1" iyz="0" izz="1"/>
    </inertial>
  </link>
  <joint name="reu_joint_in2body_14" type="fixed">
    <parent link="reu_module_in_14"/>
    <child link="reu_module_body_14"/>
    <origin rpy="1.57076327 0 0" xyz="0 -0.0066 0"/>
  </joint>
  <joint name="reu_joint_body2out_14" type="fixed">
    <parent link="reu_module_body_14"/>
    <child link="reu_module_out_14"/>
    <origin rpy="0 1.57076327 0" xyz="0 0 0.044"/>
  </joint>
  <joint name="reu_joint_out2in_14" type="revolute">
    <parent link="reu_module_out_14"/>
    <child link="reu_module_in_15"/>
    <axis xyz="0 0 1"/>
    <origin rpy="0 3.14152654 -1.57076327" xyz="0 0 0"/>
    <dynamics damping="0.1" friction="0.2"/>
    <limit effort="7.0" lower="-1.57076327" upper="1.57076327" velocity="2.2"/>
  </joint>
  <transmission name="module_2_module_trans_14">
    <type>transmission_interface/SimpleTranmission</type>
    <actuator name="module_actuator_14">
      <mechanicalReduction>1</mechanicalReduction>
    </actuator>
    <joint name="reu_joint_out2in_14">
      <hardwareInterface>PositionJointInterface</hardwareInterface>
    </joint>
  </transmission>
  <link name="reu_module_in_15">
    <visual>
      <origin rpy="0 0 0" xyz="0 0 0"/>
      <geometry>
        <cylinder length="0.02" radius="0.006"/>
      </geometry>
      <material name="red">
        <color rgba="1 0 0 1"/>
      </material>
    </visual>
    <inertial>
      <origin rpy="0 0 0" xyz="0 0 0"/>
      <mass value="1"/>
      <inertia ixx="1" ixy="0" ixz="0" iyy="1" iyz="0" izz="1"/>
    </inertial>
  </link>
  <link name="reu_module_body_15">
    <visual>
      <origin rpy="0 0 0" xyz="-0.02539 -0.02539 -0.9"/>
      <geometry>
        <mesh filename="package://model/ReU/meshes/ReU.STL" scale="0.0254 0.0254 0.0254"/>
      </geometry>
      <material name="red">
        <color rgba="1 0 0 1"/>
      </material>
    </visual>
    <collision>
      <origin rpy="0 0 0" xyz="0 0 0"/>
      <geometry>
        <cylinder length="0.0208325" radius="0.02539"/>
      </geometry>
    </collision>
    <inertial>
      <origin rpy="0 0 0" xyz="0 0 0"/>
      <mass value="0.103"/>
      <inertia ixx="2.948" ixy="0.0452" ixz="0.4092" iyy="2.9305" iyz="-0.405" izz="1.819"/>
    </inertial>
  </link>
  <link name="reu_module_out_15">
    <visual>
      <origin rpy="0 0 0" xyz="0 0 0"/>
      <geometry>
        <cylinder length="0.015" radius="0.006"/>
      </geometry>
      <material name="blue">
        <color rgba="0 0 1 1"/>
      </material>
    </visual>
    <inertial>
      <origin rpy="0 0 0" xyz="0 0 0"/>
      <mass value="0"/>
      <inertia ixx="1" ixy="0" ixz="0" iyy="1" iyz="0" izz="1"/>
    </inertial>
  </link>
  <joint name="reu_joint_in2body_15" type="fixed">
    <parent link="reu_module_in_15"/>
    <child link="reu_module_body_15"/>
    <origin rpy="1.57076327 0 0" xyz="0 -0.0066 0"/>
  </joint>
  <joint name="reu_joint_body2out_15" type="fixed">
    <parent link="reu_module_body_15"/>
    <child link="reu_module_out_15"/>
    <origin rpy="0 1.57076327 0" xyz="0 0 0.044"/>
  </joint>
<joint name="reu_joint_out2in_15" type="revolute">
    <parent link="reu_module_out_15"/>
    <child link="reu_module_in_16"/>
    <axis xyz="0 0 1"/>
    <origin rpy="0 3.14152654 -1.57076327" xyz="0 0 0"/>
    <dynamics damping="0.1" friction="0.2"/>
    <limit effort="7.0" lower="-1.57076327" upper="1.57076327" velocity="2.2"/>
  </joint>
  <transmission name="module_2_module_trans_15">
    <type>transmission_interface/SimpleTranmission</type>
    <actuator name="module_actuator_15">
      <mechanicalReduction>1</mechanicalReduction>
    </actuator>
    <joint name="reu_joint_out2in_15">
      <hardwareInterface>PositionJointInterface</hardwareInterface>
    </joint>
  </transmission>
  <link name="reu_module_in_16">
    <visual>
      <origin rpy="0 0 0" xyz="0 0 0"/>
      <geometry>
        <cylinder length="0.02" radius="0.006"/>
      </geometry>
      <material name="red">
        <color rgba="1 0 0 1"/>
      </material>
    </visual>
    <inertial>
      <origin rpy="0 0 0" xyz="0 0 0"/>
      <mass value="1"/>
      <inertia ixx="1" ixy="0" ixz="0" iyy="1" iyz="0" izz="1"/>
    </inertial>
  </link>
  <link name="reu_module_body_16">
    <visual>
      <origin rpy="0 0 0" xyz="-0.02539 -0.02539 -0.9"/>
      <geometry>
        <mesh filename="package://model/ReU/meshes/ReU.STL" scale="0.0254 0.0254 0.0254"/>
      </geometry>
      <material name="red">
        <color rgba="1 0 0 1"/>
      </material>
    </visual>
    <collision>
      <origin rpy="0 0 0" xyz="0 0 0"/>
      <geometry>
        <cylinder length="0.0208325" radius="0.02539"/>
      </geometry>
    </collision>
    <inertial>
      <origin rpy="0 0 0" xyz="0 0 0"/>
      <mass value="0.103"/>
      <inertia ixx="2.948" ixy="0.0452" ixz="0.4092" iyy="2.9305" iyz="-0.405" izz="1.819"/>
    </inertial>
  </link>
  <link name="reu_module_out_16">
    <visual>
      <origin rpy="0 0 0" xyz="0 0 0"/>
      <geometry>
        <cylinder length="0.015" radius="0.006"/>
      </geometry>
      <material name="blue">
        <color rgba="0 0 1 1"/>
      </material>
    </visual>
    <inertial>
      <origin rpy="0 0 0" xyz="0 0 0"/>
      <mass value="0"/>
      <inertia ixx="1" ixy="0" ixz="0" iyy="1" iyz="0" izz="1"/>
    </inertial>
  </link>
  <joint name="reu_joint_in2body_16" type="fixed">
    <parent link="reu_module_in_16"/>
    <child link="reu_module_body_16"/>
    <origin rpy="1.57076327 0 0" xyz="0 -0.0066 0"/>
  </joint>
  <joint name="reu_joint_body2out_16" type="fixed">
    <parent link="reu_module_body_16"/>
    <child link="reu_module_out_16"/>
    <origin rpy="0 1.57076327 0" xyz="0 0 0.044"/>
  </joint>
</robot>
